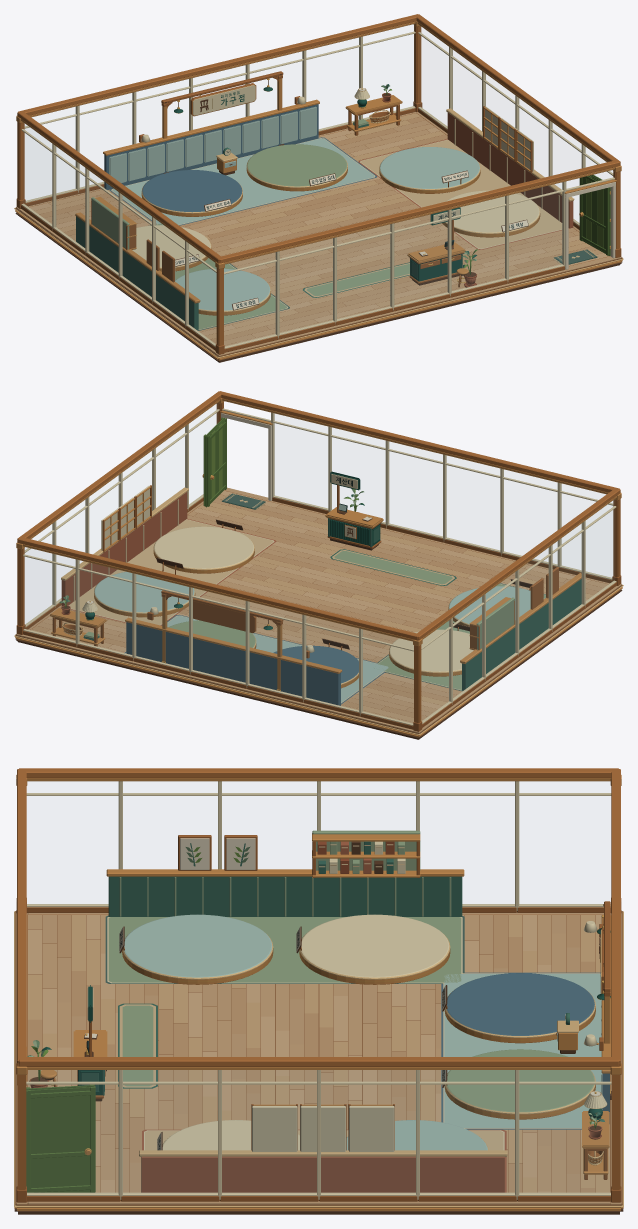
Rendered from furniture-shop-interior.glb.
3 views of the same model, one above another, from view 1: azimuth 30°, elevation 25°; view 2: azimuth 150°, elevation 25°; view 3: azimuth 270°, elevation 25° (orthographic). The views are drawn at different scales.
Parts seen in each view (by area): view 1: ShopFloor_Platform, Showroom_RoomFittings, ShopFront_Frame, ShopRear_Frame, ShopLeft_Frame, ShopRight_Frame, Station_04_Pedestal, Station_05_Pedestal, Station_03_Pedestal, Station_01_Pedestal, Station_06_Pedestal, Checkout | joiner counter (+6 smaller); view 2: ShopFloor_Platform, Showroom_RoomFittings, ShopRear_Frame, ShopFront_Frame, ShopLeft_Frame, ShopRight_Frame, Station_06_Pedestal, Station_05_Pedestal, Station_02_Pedestal, Checkout | joiner counter, ShopDoor, ShopDisplay_Shelf (+6 smaller); view 3: ShopFloor_Platform, Showroom_RoomFittings, ShopRight_Frame, ShopLeft_Frame, Station_02_Pedestal, Station_01_Pedestal, Station_03_Pedestal, ShopDoor, Station_04_Pedestal, ShopFront_Frame, ShopRear_Frame, Station_05_Pedestal (+4 smaller).
Boxes of the visible parts, left/top/right/bottom form: ShopFloor_Platform: left=14, top=112, right=623, bottom=362; Showroom_RoomFittings: left=75, top=96, right=574, bottom=329; ShopFront_Frame: left=215, top=160, right=621, bottom=354; ShopRear_Frame: left=16, top=14, right=422, bottom=208; ShopLeft_Frame: left=17, top=111, right=222, bottom=350; ShopRight_Frame: left=415, top=14, right=620, bottom=229; Station_04_Pedestal: left=246, top=144, right=347, bottom=191; Station_05_Pedestal: left=379, top=147, right=480, bottom=193; Station_03_Pedestal: left=141, top=170, right=242, bottom=216; Station_01_Pedestal: left=175, top=268, right=270, bottom=315; Station_06_Pedestal: left=442, top=190, right=540, bottom=237; Checkout | joiner counter: left=407, top=207, right=465, bottom=285; ShopFloor_Platform: left=14, top=487, right=623, bottom=739; Showroom_RoomFittings: left=61, top=485, right=581, bottom=705; ShopRear_Frame: left=16, top=538, right=422, bottom=731; ShopFront_Frame: left=216, top=391, right=621, bottom=585; ShopLeft_Frame: left=415, top=489, right=620, bottom=727; ShopRight_Frame: left=17, top=391, right=222, bottom=629; Station_06_Pedestal: left=153, top=526, right=254, bottom=573; Station_05_Pedestal: left=94, top=571, right=195, bottom=617; Station_02_Pedestal: left=389, top=629, right=473, bottom=676; Checkout | joiner counter: left=325, top=471, right=383, bottom=550; ShopDoor: left=202, top=417, right=226, bottom=507; ShopDisplay_Shelf: left=50, top=595, right=106, bottom=646; ShopFloor_Platform: left=14, top=910, right=623, bottom=1214; Showroom_RoomFittings: left=106, top=830, right=611, bottom=1192; ShopRight_Frame: left=18, top=1057, right=619, bottom=1201; ShopLeft_Frame: left=19, top=768, right=618, bottom=912; Station_02_Pedestal: left=299, top=914, right=450, bottom=984; Station_01_Pedestal: left=122, top=914, right=273, bottom=984; Station_03_Pedestal: left=444, top=973, right=595, bottom=1043; ShopDoor: left=26, top=1084, right=95, bottom=1192; Station_04_Pedestal: left=444, top=1049, right=595, bottom=1119; ShopFront_Frame: left=16, top=769, right=27, bottom=1202; ShopRear_Frame: left=610, top=769, right=621, bottom=1202; Station_05_Pedestal: left=346, top=1120, right=488, bottom=1150.
Bounding box in the file's own units: 17.29 × 4.21 × 15.09.
